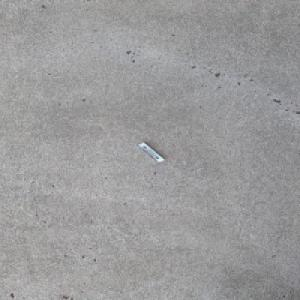ClampPart: (134, 141, 164, 163)
